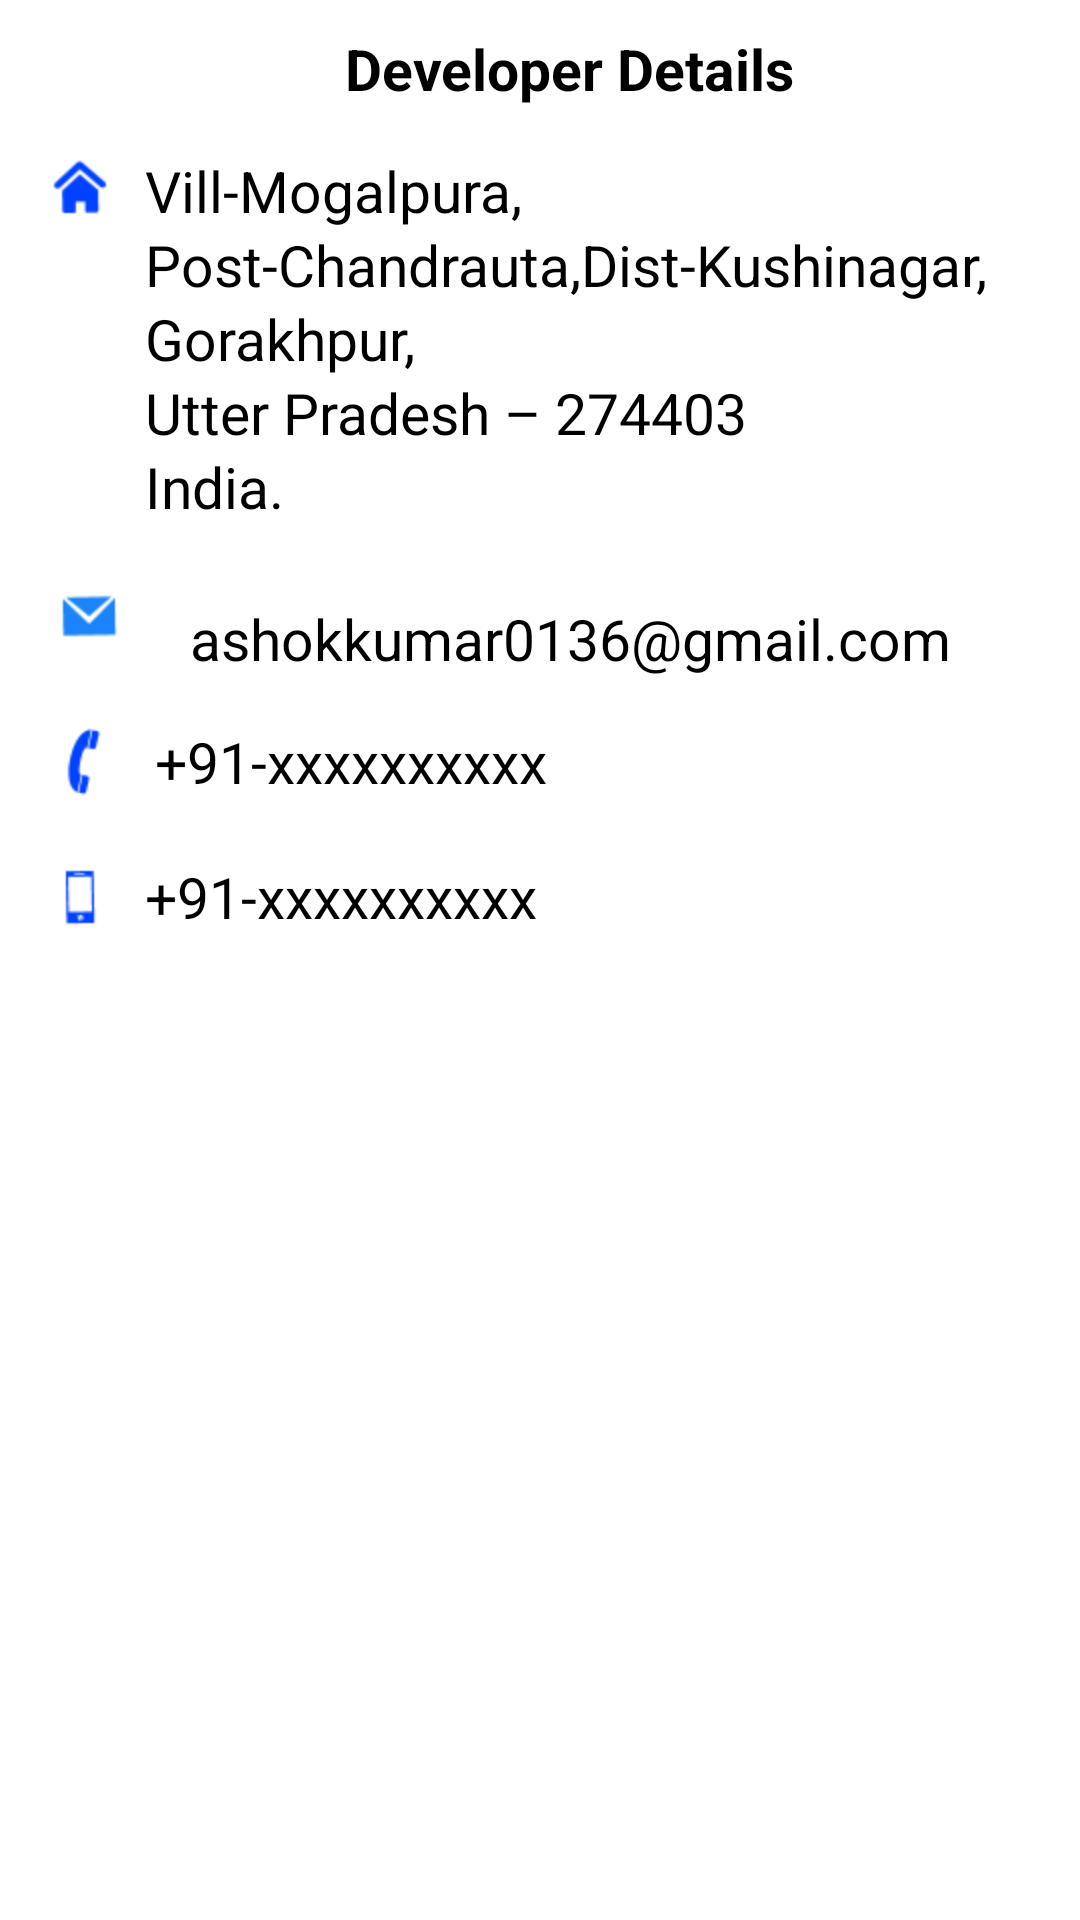

Named icons in this screenshot (1080x1920) and their centers, (x,y):
addressicon: (80,187)
callingicon: (84,761)
emailicon: (89,616)
phonecontacticon: (80,897)
